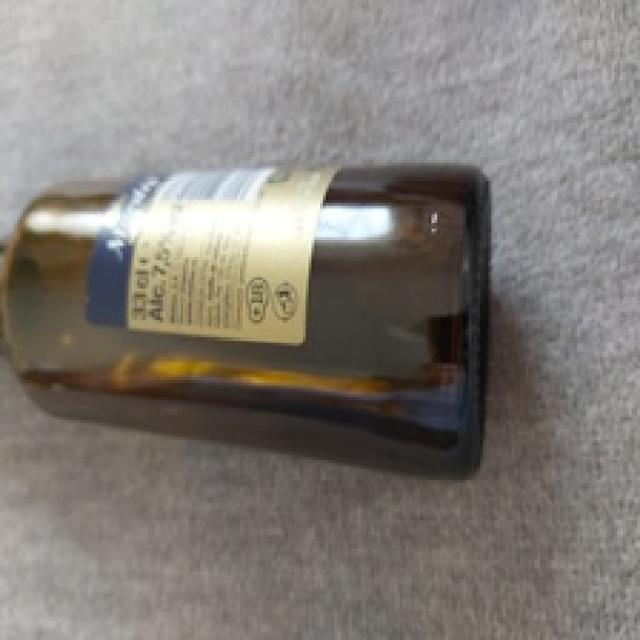Glass: (0, 164, 491, 481)
